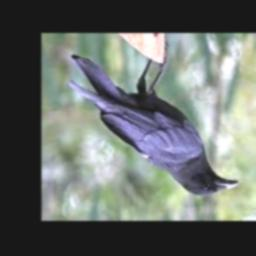Crow: (67, 41, 238, 197)
